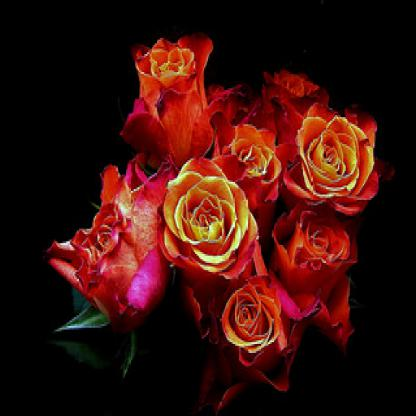ROSE-MAWAR: (38, 14, 402, 415)
